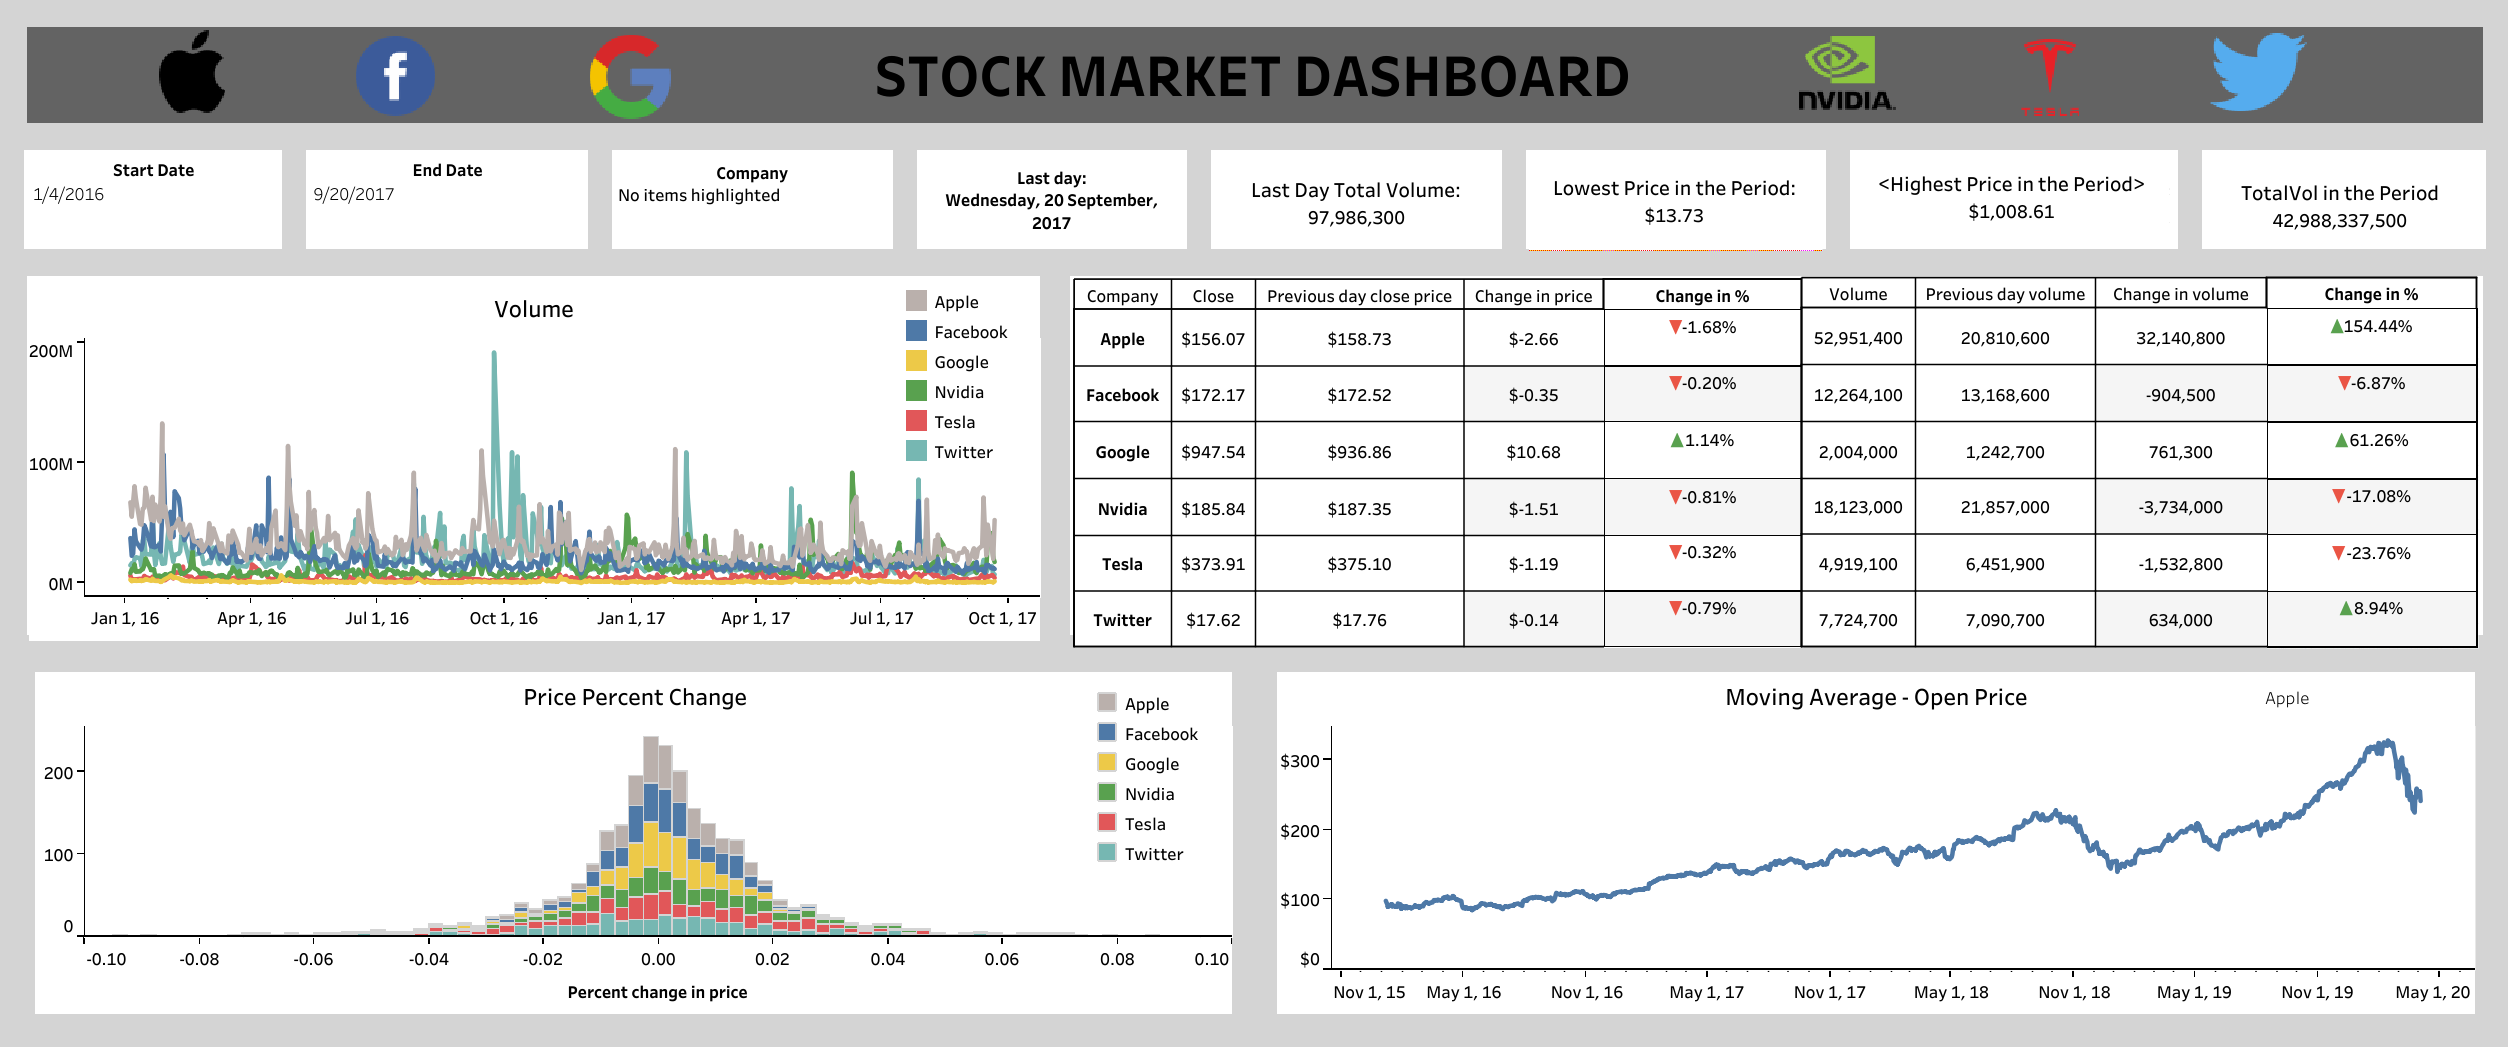

The dashboard page shown, as its layout file describes it:
{"tool":"tableau","page":{"name":"Dashboard 1","canvas":[1000,1000],"units":"permille","ordinal":0},"visuals":[{"type":"blank","box":[4.8,12,990.3,119.6]},{"type":"image","param":"Image/Apple logo.png","box":[58,28.4,37.1,79.2]},{"type":"image","param":"Image/Twitter logo.png","box":[880.7,29.9,38.4,77.7]},{"type":"worksheet","title":"Title","mark":"Automatic","box":[326.2,31.4,346.4,77.7]},{"type":"image","param":"Image/Google logo.png","box":[235.2,32.9,32.4,80.7]},{"type":"image","param":"Image/Facebook logo.png","box":[137.5,34.4,40.4,76.2]},{"type":"image","param":"Image/Nvidia logo.png","box":[706.2,34.4,60.6,70.2]},{"type":"image","param":"Image/Tesla logo.png","box":[792.5,37.4,48.5,73.2]},{"type":"blank","box":[4.8,131.5,112.1,118.1]},{"type":"blank","box":[116.9,131.5,122,118.1]},{"type":"blank","box":[238.9,131.5,121.4,118.1]},{"type":"blank","box":[360.3,131.5,117.4,118.1]},{"type":"blank","box":[477.7,131.5,125.5,118.1]},{"type":"blank","box":[603.2,131.5,128.9,118.1]},{"type":"blank","box":[732.1,131.5,140.3,118.1]},{"type":"blank","box":[872.4,131.5,122.8,118.1]},{"type":"worksheet","title":"Lowest Price in the Period","mark":"Automatic","box":[609.2,146.5,116.6,91.2]},{"type":"worksheet","title":"Last Day","mark":"Automatic","box":[367.9,148,102.4,85.2]},{"type":"parameter","param":"[Parameters].[Parameter 1]","box":[12.1,149.5,98.4,97.2]},{"type":"parameter","param":"[Parameters].[Parameter 2]","box":[124,149.5,109.2,97.2]},{"type":"highlighter","title":"Volume","param":"[federated.1rppebo0npdsa8184hmlz1oyvf9g].[none:Table Name:nk]","box":[245.3,151,109.2,73.2]},{"type":"worksheet","title":"Highest Price in the Period ","mark":"Automatic","box":[739.2,151,124.7,71.8]},{"type":"worksheet","title":"Last Day Volume","mark":"Automatic","box":[485.2,154,110.5,77.7]},{"type":"worksheet","title":"Total Volume in the Period","mark":"Automatic","box":[881.2,155.5,103.1,79.2]},{"type":"blank","box":[4.8,249.6,415.5,369.2]},{"type":"blank","box":[420.4,249.6,574.8,369.2]},{"type":"worksheet","title":"Detailed Volume Table","mark":"Automatic","rows":["Table Name","Volume","Previous day volume","Change in volume"],"box":[717.6,264.6,269.5,354.3]},{"type":"worksheet","title":"Detailed Price Table","mark":"Automatic","rows":["Table Name","Close","Previous day close price","Change in price"],"box":[427.9,266.1,290.4,352.8]},{"type":"worksheet","title":"Volume","mark":"Automatic","rows":["Volume"],"cols":["Date"],"box":[11.5,269.1,403,342.3]},{"type":"legend","title":"Volume","param":"[federated.1rppebo0npdsa8184hmlz1oyvf9g].[none:Table Name:nk]","box":[359.2,272.1,65.4,188.3]},{"type":"blank","box":[4.8,618.8,495.2,369.2]},{"type":"blank","box":[500,618.8,495.2,369.2]},{"type":"worksheet","title":"Price Percent Change","mark":"Automatic","rows":["Percent change in price"],"cols":["Percent change in price (bin)"],"box":[15.5,639.8,475.1,325.9]},{"type":"worksheet","title":"Moving Average - Open Price","mark":"Automatic","cols":["Date"],"box":[510.1,639.8,475.7,327.4]},{"type":"filter","title":"Moving Average - Open Price","param":"[federated.1rppebo0npdsa8184hmlz1oyvf9g].[none:Table Name:nk]","box":[901.6,651.7,81.5,37.4]},{"type":"legend","title":"Price Percent Change","param":"[federated.1rppebo0npdsa8184hmlz1oyvf9g].[none:Table Name:nk]","box":[435.3,654.7,58,183.9]}]}

Visuals, with their boxes on the dashboard's canvas, which has no fixed pixel size, in thousandths of its width and height (x1, y1, x2, y2). These are canvas units, not pixel positions in the 2508x1047 screenshot, which may show the page scaled, cropped or inside an application window:
blank: {"left": 5, "top": 12, "right": 995, "bottom": 132}
image: {"left": 58, "top": 28, "right": 95, "bottom": 108}
image: {"left": 881, "top": 30, "right": 919, "bottom": 108}
"Title" worksheet: {"left": 326, "top": 31, "right": 673, "bottom": 109}
image: {"left": 235, "top": 33, "right": 268, "bottom": 114}
image: {"left": 138, "top": 34, "right": 178, "bottom": 111}
image: {"left": 706, "top": 34, "right": 767, "bottom": 105}
image: {"left": 792, "top": 37, "right": 841, "bottom": 111}
blank: {"left": 5, "top": 132, "right": 117, "bottom": 250}
blank: {"left": 117, "top": 132, "right": 239, "bottom": 250}
blank: {"left": 239, "top": 132, "right": 360, "bottom": 250}
blank: {"left": 360, "top": 132, "right": 478, "bottom": 250}
blank: {"left": 478, "top": 132, "right": 603, "bottom": 250}
blank: {"left": 603, "top": 132, "right": 732, "bottom": 250}
blank: {"left": 732, "top": 132, "right": 872, "bottom": 250}
blank: {"left": 872, "top": 132, "right": 995, "bottom": 250}
"Lowest Price in the Period" worksheet: {"left": 609, "top": 146, "right": 726, "bottom": 238}
"Last Day" worksheet: {"left": 368, "top": 148, "right": 470, "bottom": 233}
parameter: {"left": 12, "top": 150, "right": 110, "bottom": 247}
parameter: {"left": 124, "top": 150, "right": 233, "bottom": 247}
"Volume" highlighter: {"left": 245, "top": 151, "right": 354, "bottom": 224}
"Highest Price in the Period " worksheet: {"left": 739, "top": 151, "right": 864, "bottom": 223}
"Last Day Volume" worksheet: {"left": 485, "top": 154, "right": 596, "bottom": 232}
"Total Volume in the Period" worksheet: {"left": 881, "top": 156, "right": 984, "bottom": 235}
blank: {"left": 5, "top": 250, "right": 420, "bottom": 619}
blank: {"left": 420, "top": 250, "right": 995, "bottom": 619}
"Detailed Volume Table" worksheet: {"left": 718, "top": 265, "right": 987, "bottom": 619}
"Detailed Price Table" worksheet: {"left": 428, "top": 266, "right": 718, "bottom": 619}
"Volume" worksheet: {"left": 12, "top": 269, "right": 414, "bottom": 611}
"Volume" legend: {"left": 359, "top": 272, "right": 425, "bottom": 460}
blank: {"left": 5, "top": 619, "right": 500, "bottom": 988}
blank: {"left": 500, "top": 619, "right": 995, "bottom": 988}
"Price Percent Change" worksheet: {"left": 16, "top": 640, "right": 491, "bottom": 966}
"Moving Average - Open Price" worksheet: {"left": 510, "top": 640, "right": 986, "bottom": 967}
"Moving Average - Open Price" filter: {"left": 902, "top": 652, "right": 983, "bottom": 689}
"Price Percent Change" legend: {"left": 435, "top": 655, "right": 493, "bottom": 839}
